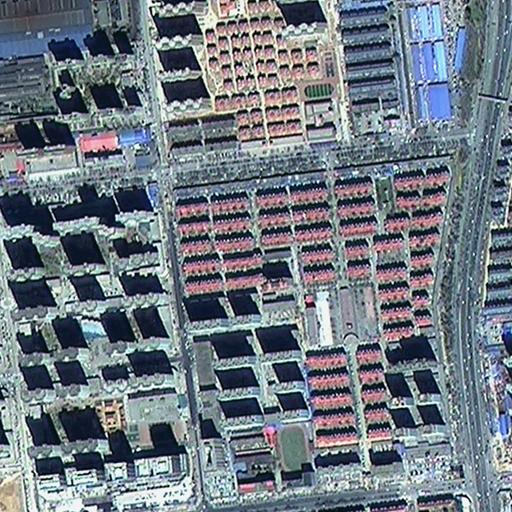school: (226, 419, 316, 486), (126, 390, 193, 451), (299, 76, 347, 145)
